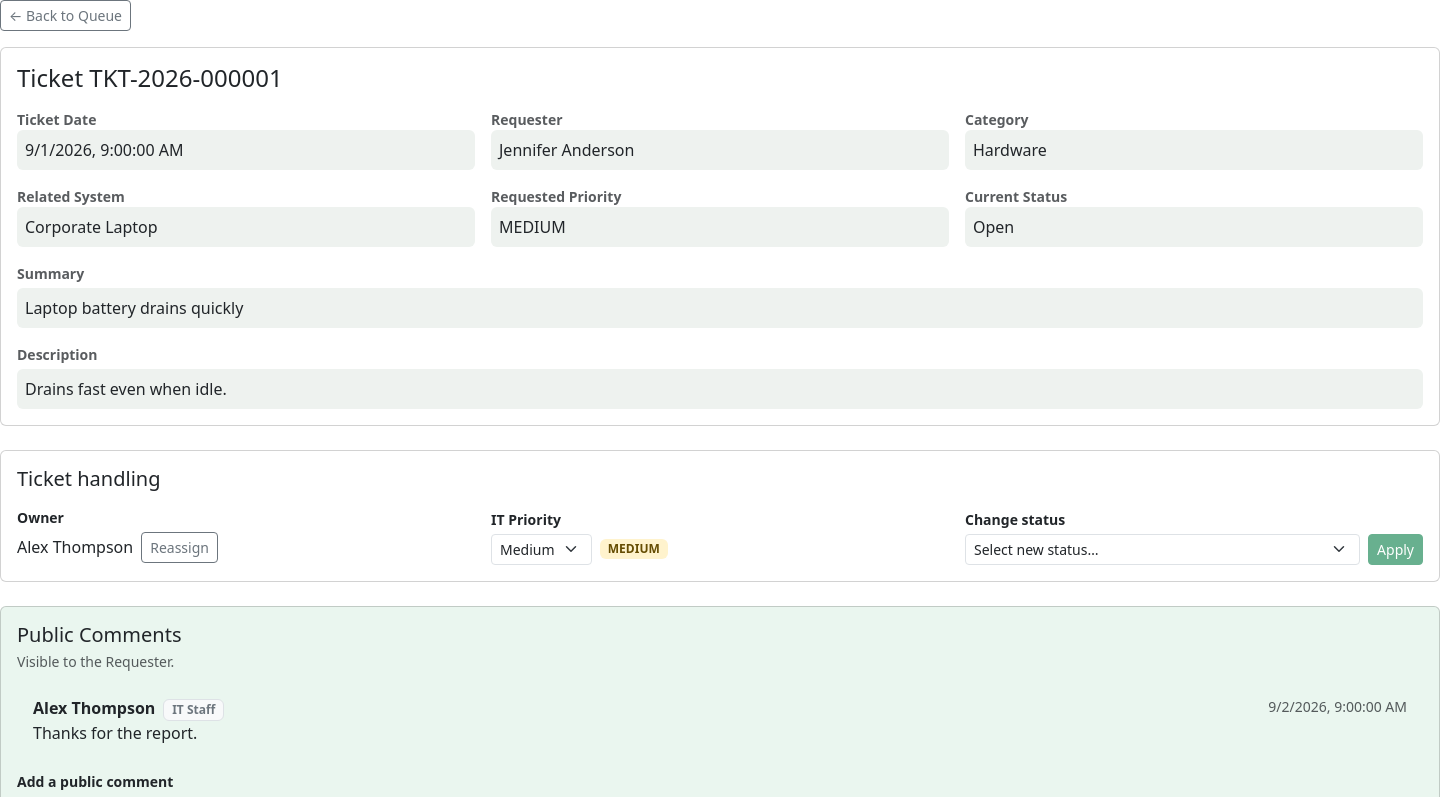
Test: StaffTicketDetail › reassigns to another IT Staff member
Expected: the heading "Ticket TKT-2026-000001" is shown, [17,61,283,94]
Click the button "Reassign" at coordinates (180, 547), box [141,532,218,563]
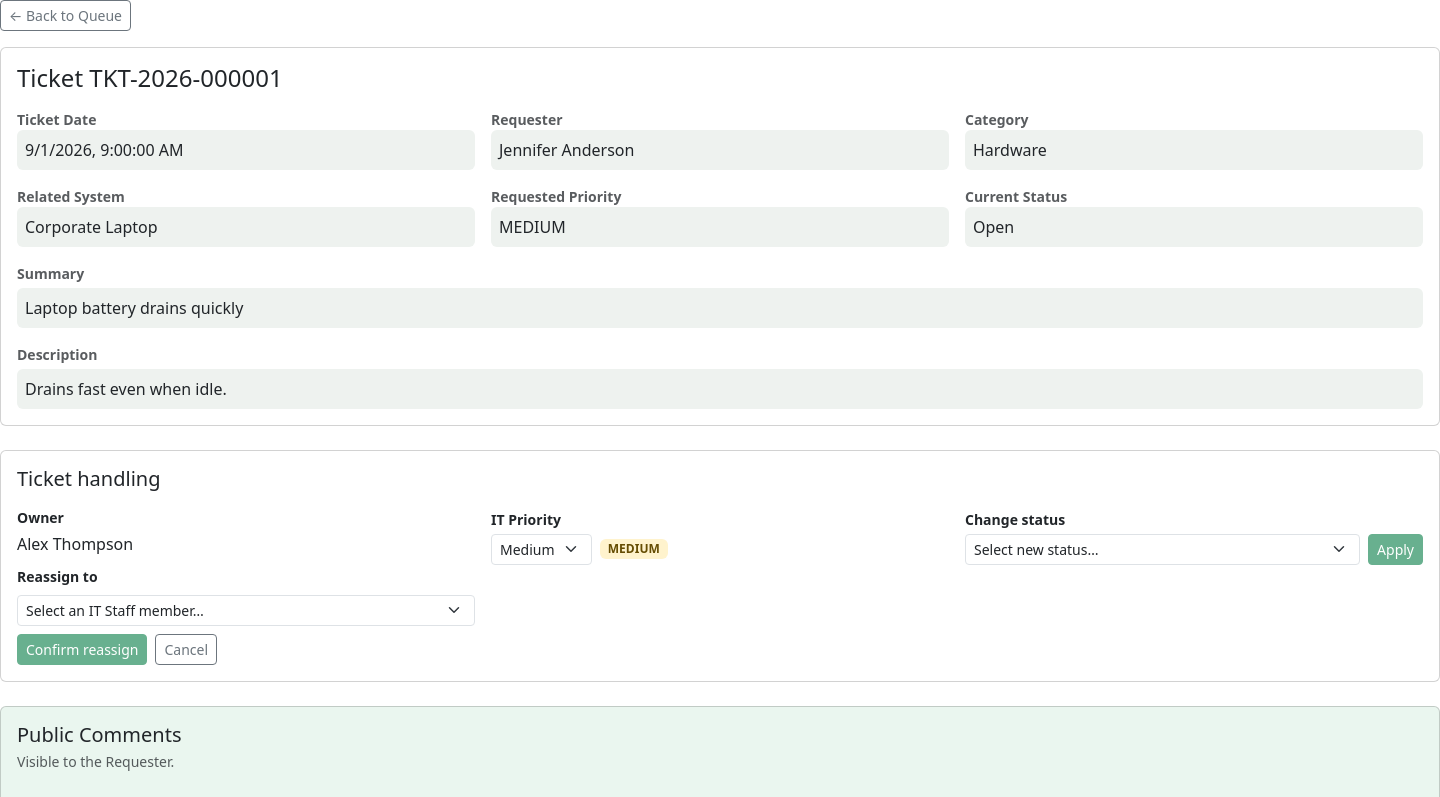
Select "Priya Nair" in the dropdown labelled "Reassign to" at coordinates (246, 610), box [17,595,475,626]
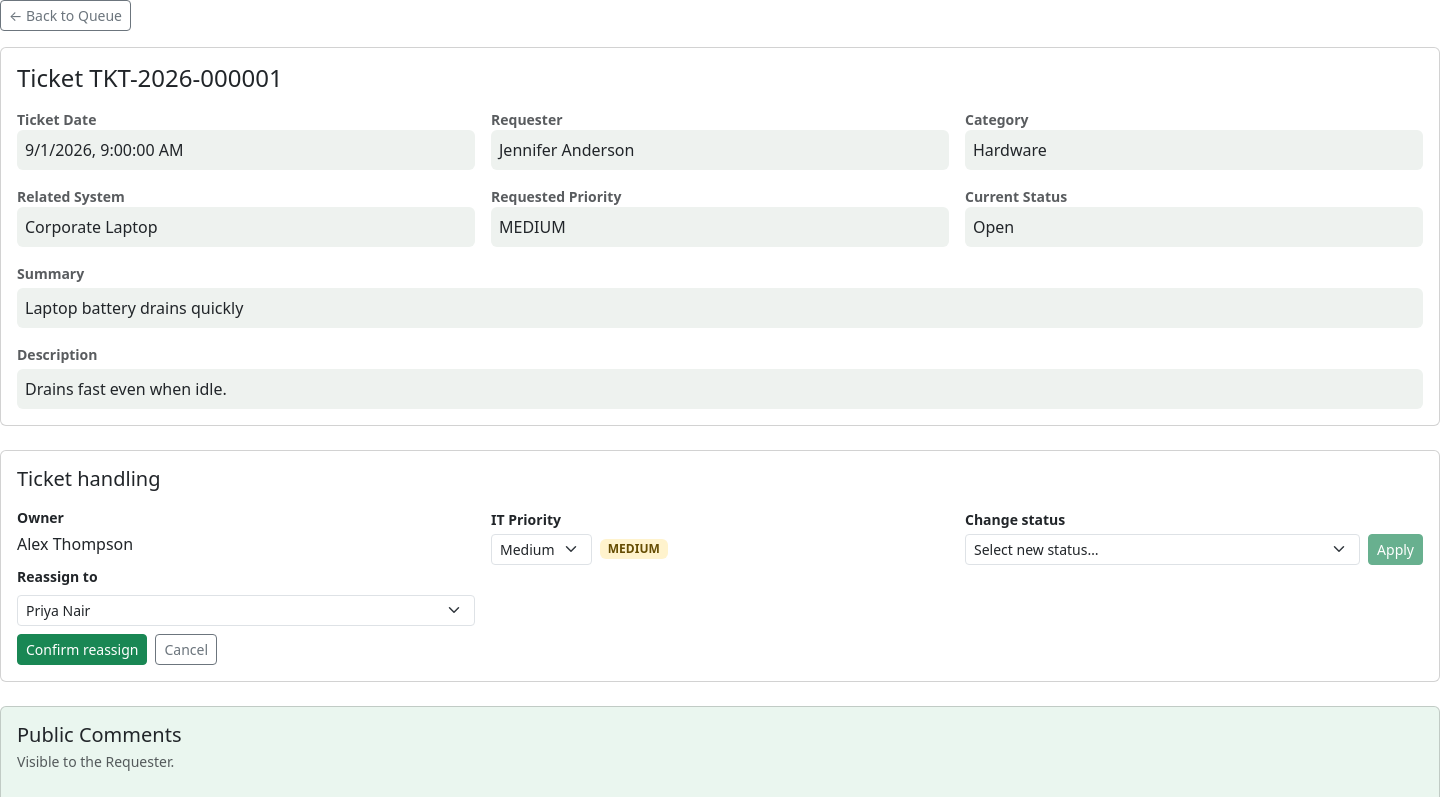
Click the button "Confirm reassign" at coordinates (82, 649), box [17,634,148,665]
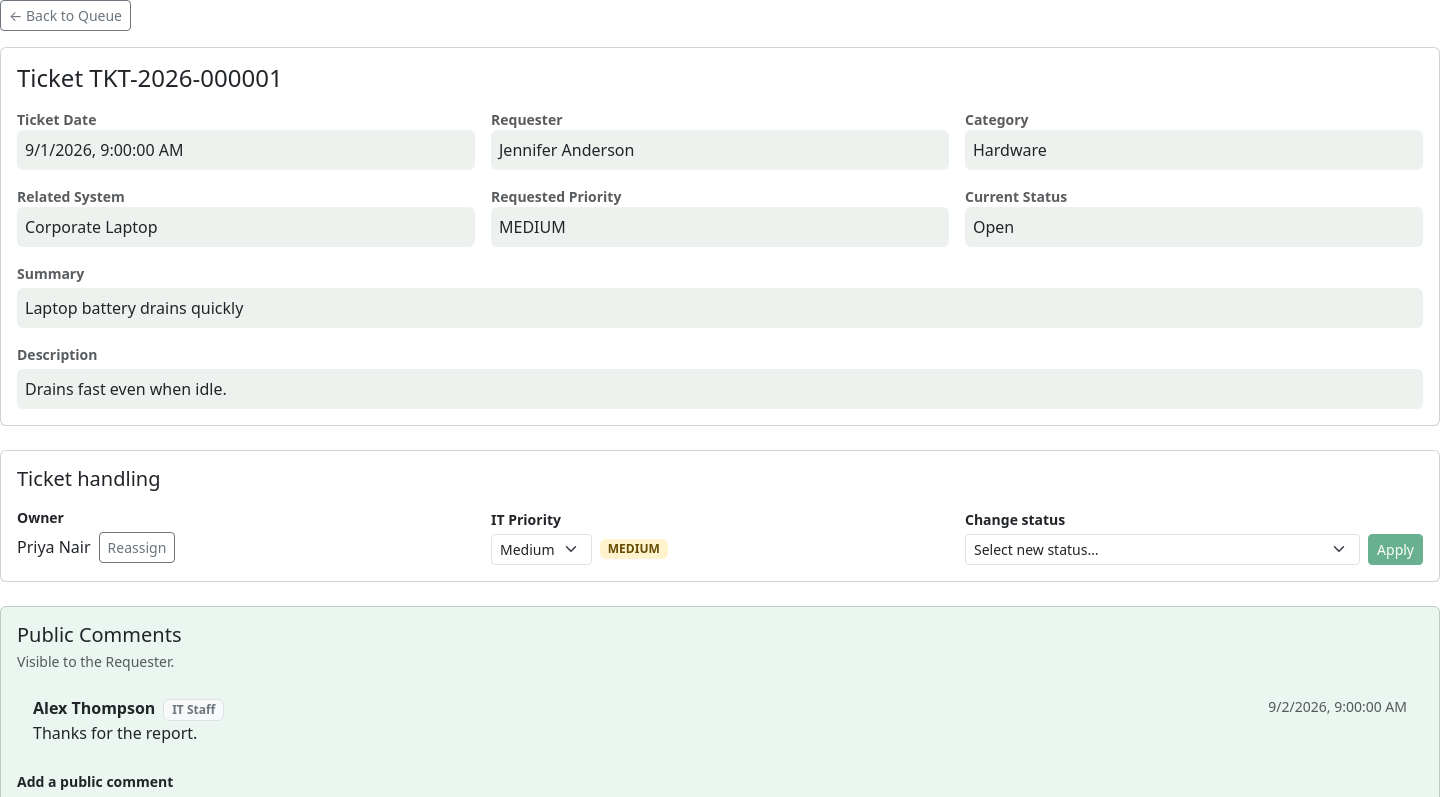
Expected: the text "Priya Nair" is shown, [17,535,91,559]
